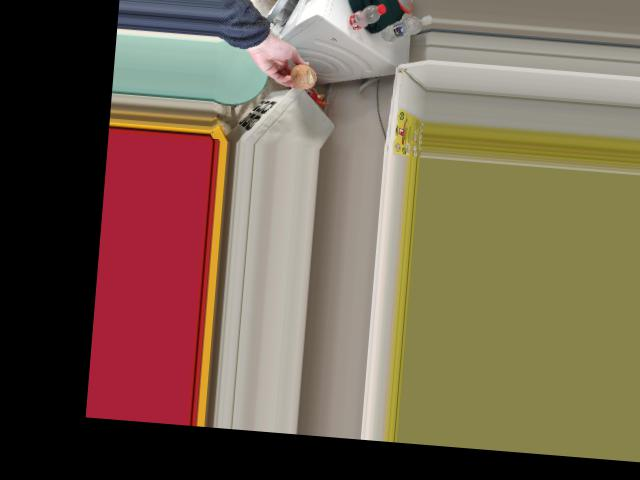sweet_potato: (286, 63, 316, 87)
